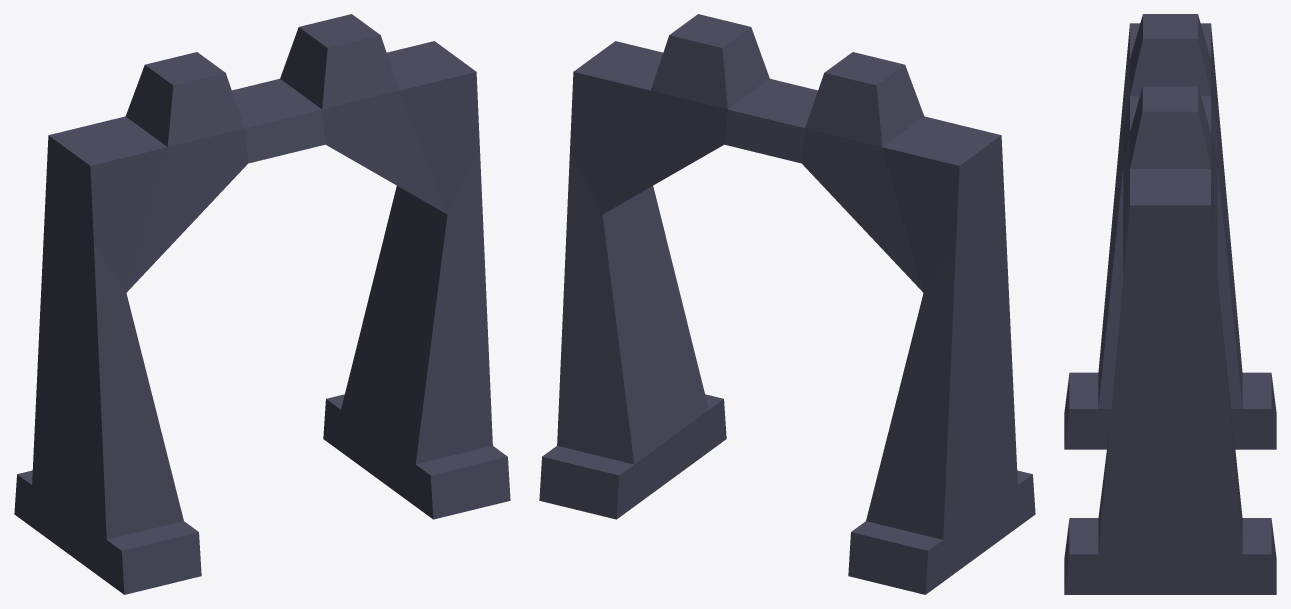
The model's file is stone_gate.fbx.
3 renders of one model, left to right at view 1: azimuth 30°, elevation 25°; view 2: azimuth 150°, elevation 25°; view 3: azimuth 270°, elevation 25°, orthographic. The views are drawn at different scales.
Visible parts, largest first — view 1: Cube; view 2: Cube; view 3: Cube.
Boxes of the visible parts, x1,y1,x2,y2 form: Cube: (14,14,510,594); Cube: (539,14,1035,594); Cube: (1064,14,1276,594).
Bounding box in the file's own units: 74.5 × 84.38 × 36.78.
